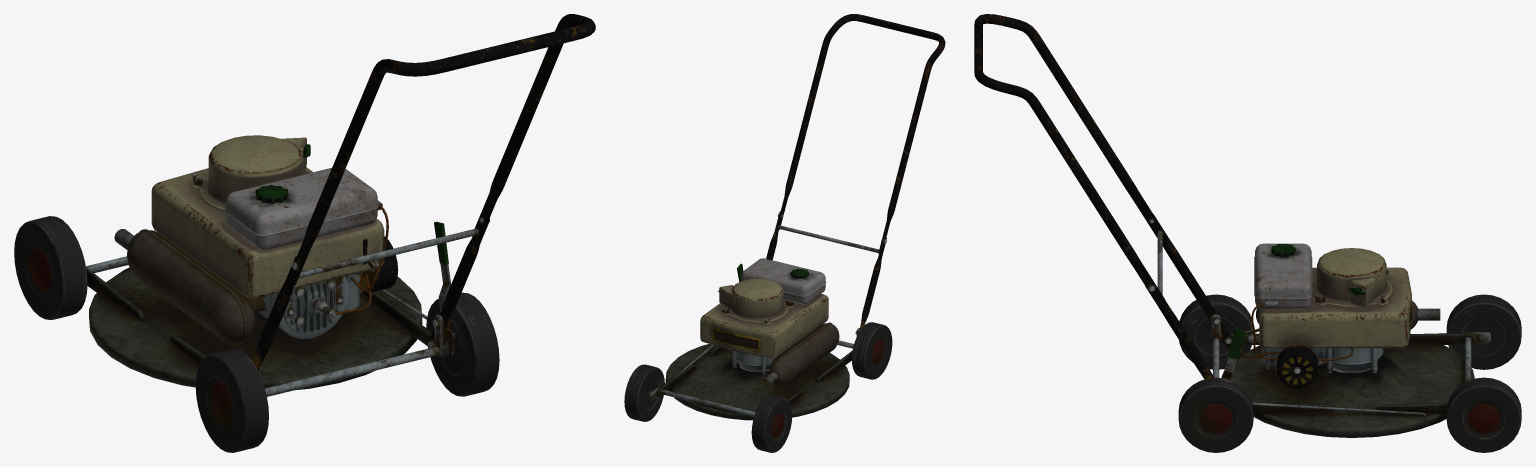
File: lawn_mower.glb
3 renders of one model, left to right at view 1: azimuth 30°, elevation 25°; view 2: azimuth 150°, elevation 25°; view 3: azimuth 270°, elevation 25°, orthographic. The views are drawn at different scales.
Visible parts, largest first — view 1: Mower_Low; view 2: Mower_Low; view 3: Mower_Low.
Part boxes in pixels (<box>): Mower_Low: <box>14,14,595,452</box>; Mower_Low: <box>624,14,945,452</box>; Mower_Low: <box>974,14,1521,452</box>.
Bounding box in the file's own units: 0.9013 × 1.47 × 2.
1 material, 1 textured.
